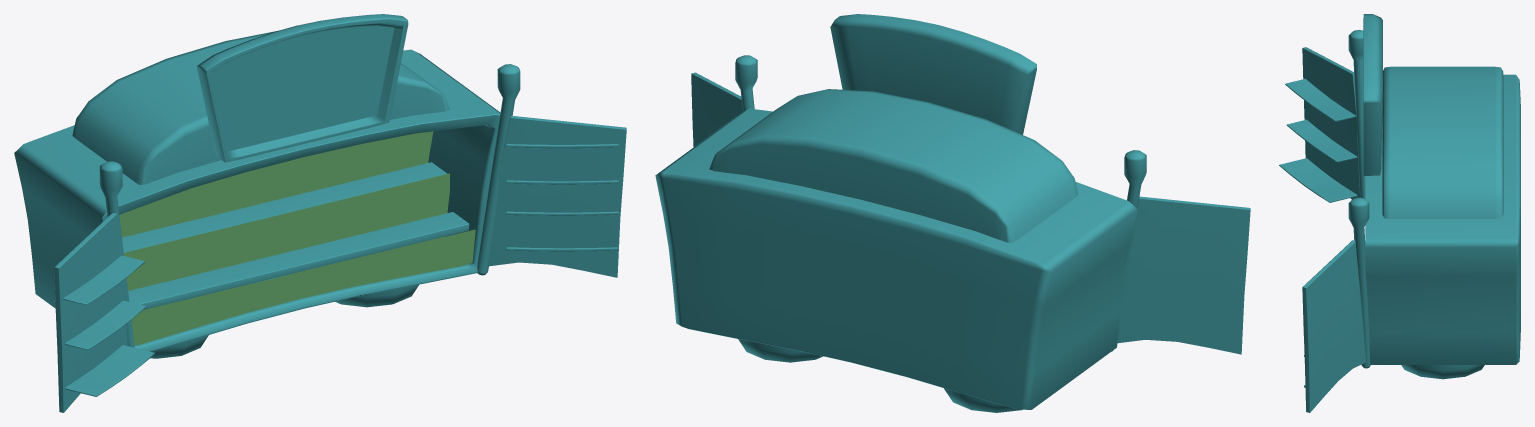
The model's file is Booth_03.fbx.
3 views of the same model, side by side, from view 1: azimuth 30°, elevation 25°; view 2: azimuth 150°, elevation 25°; view 3: azimuth 270°, elevation 25° (orthographic). The views are drawn at different scales.
Visible parts, largest first — view 1: Booth; view 2: Booth; view 3: Booth.
Boxes of the visible parts, x1,y1,x2,y2 form: Booth: [14, 14, 626, 412]; Booth: [655, 14, 1250, 412]; Booth: [1279, 14, 1520, 412].
Bounding box in the file's own units: 3631 × 1949 × 1540.
